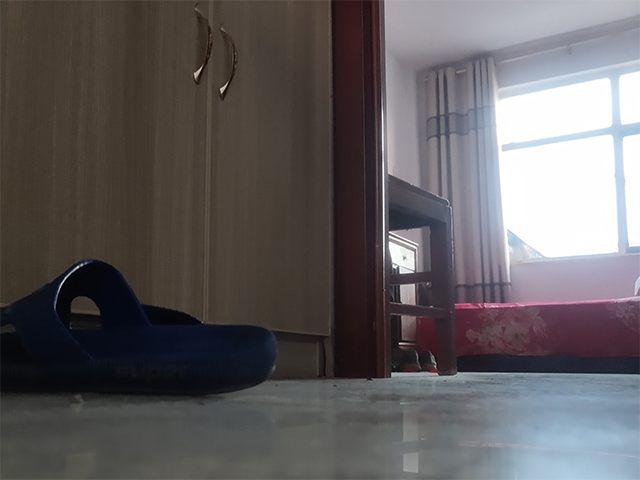bed: (415, 295, 640, 376)
cabinet: (1, 1, 337, 380)
curtain: (415, 49, 516, 305)
slippers: (1, 256, 279, 397)
stool: (386, 174, 460, 377)
